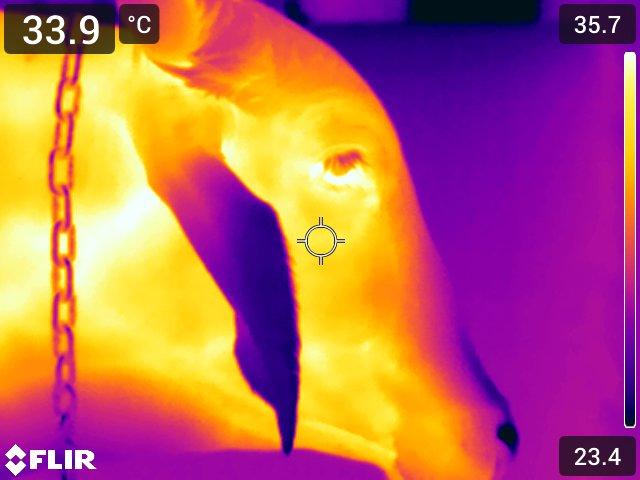eyes: (306, 138, 385, 202)
